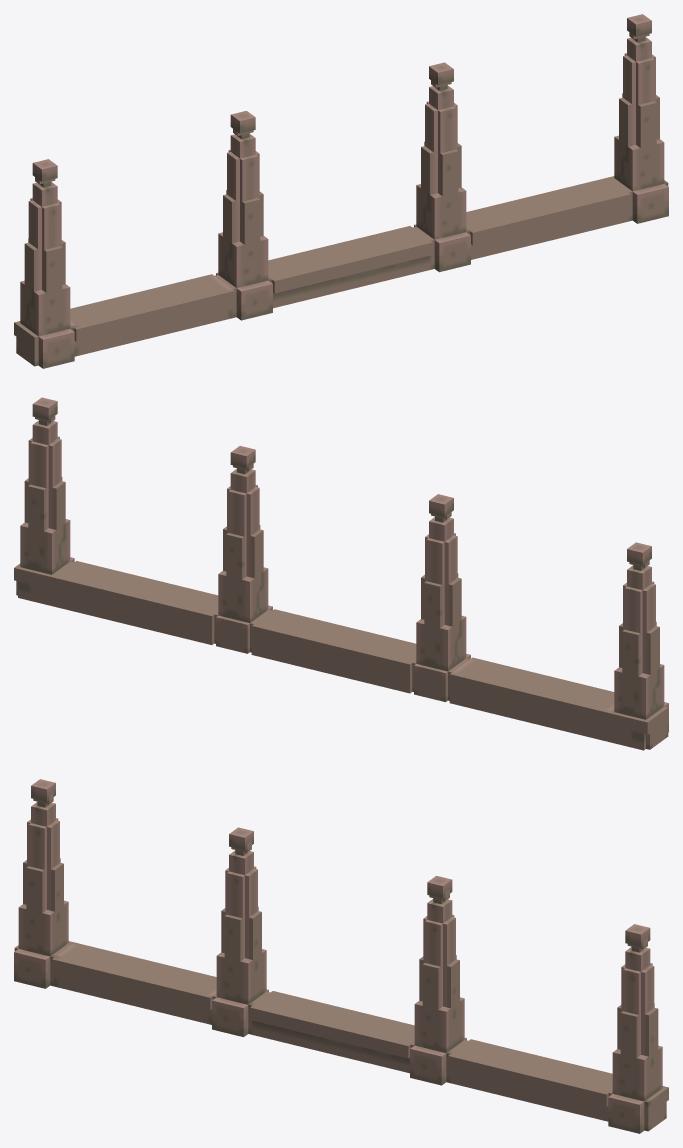
The model's file is BuildingBlock_Top-0.fbx.
3 views of the same model, one above another, from view 1: azimuth 30°, elevation 25°; view 2: azimuth 150°, elevation 25°; view 3: azimuth 330°, elevation 25° (orthographic).
Parts seen in each view (by area): view 1: BuildingBlock_Top-0; view 2: BuildingBlock_Top-0; view 3: BuildingBlock_Top-0.
Part boxes in pixels (box(x1,y1,x2,y2)): BuildingBlock_Top-0: box(14, 14, 668, 368); BuildingBlock_Top-0: box(14, 397, 668, 750); BuildingBlock_Top-0: box(14, 779, 668, 1133).
Bounding box in the file's own units: 800 × 230 × 55.
